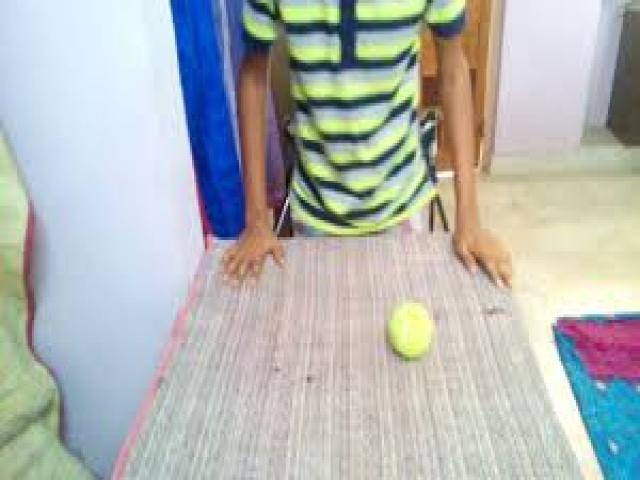tennis-ball: (386, 302, 433, 357)
